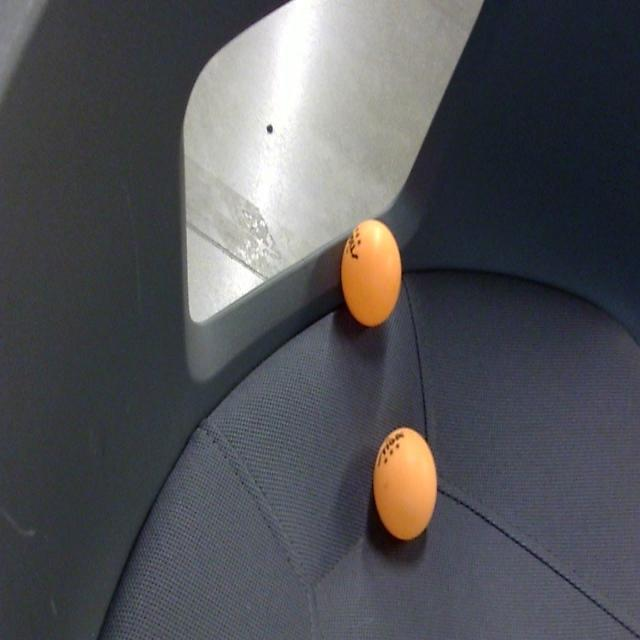ball: (372, 426, 438, 543), (340, 216, 403, 329)
